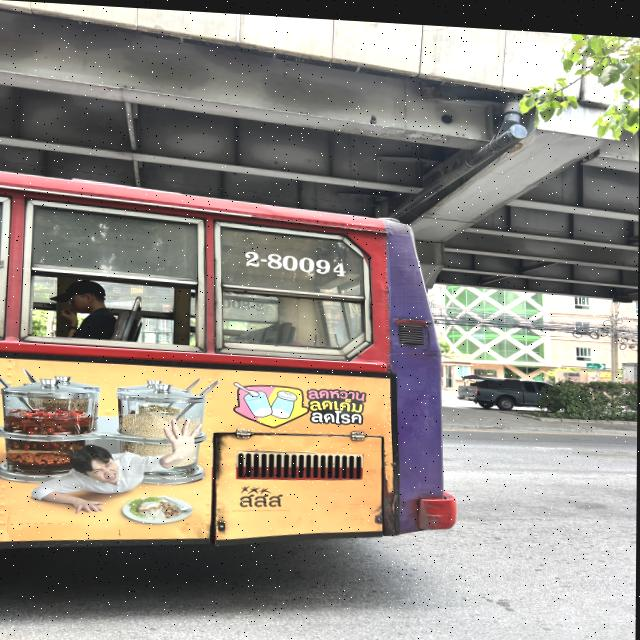BMTA-bus: (0, 164, 462, 571)
Bus Side Number: (240, 245, 356, 276)
